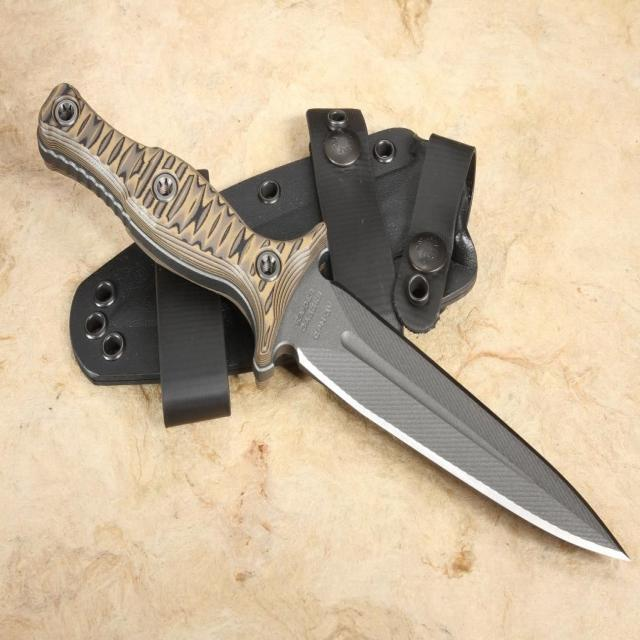short sword: (29, 59, 635, 593)
